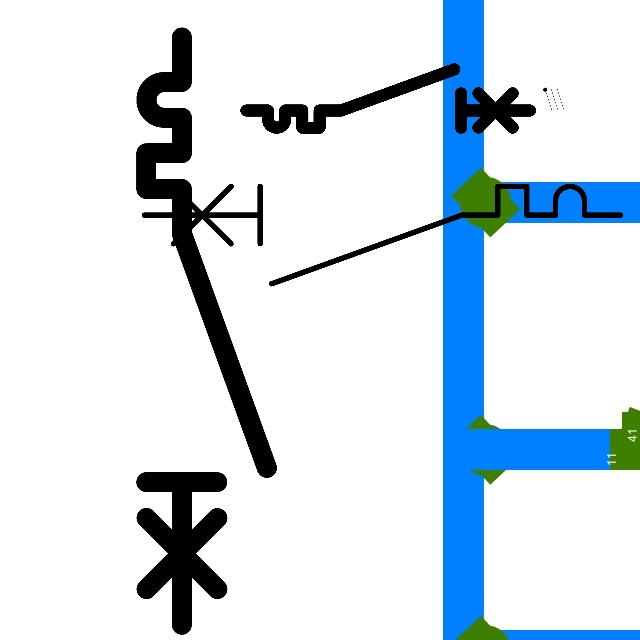interruptor_termomagnetico: (131, 22, 282, 640), (132, 174, 633, 296), (239, 62, 537, 135)
